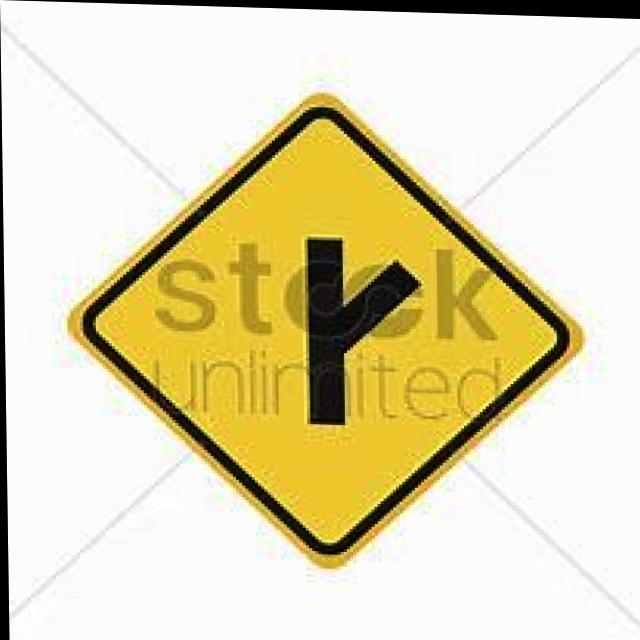Y_INTERSECTION: (64, 63, 605, 581)
